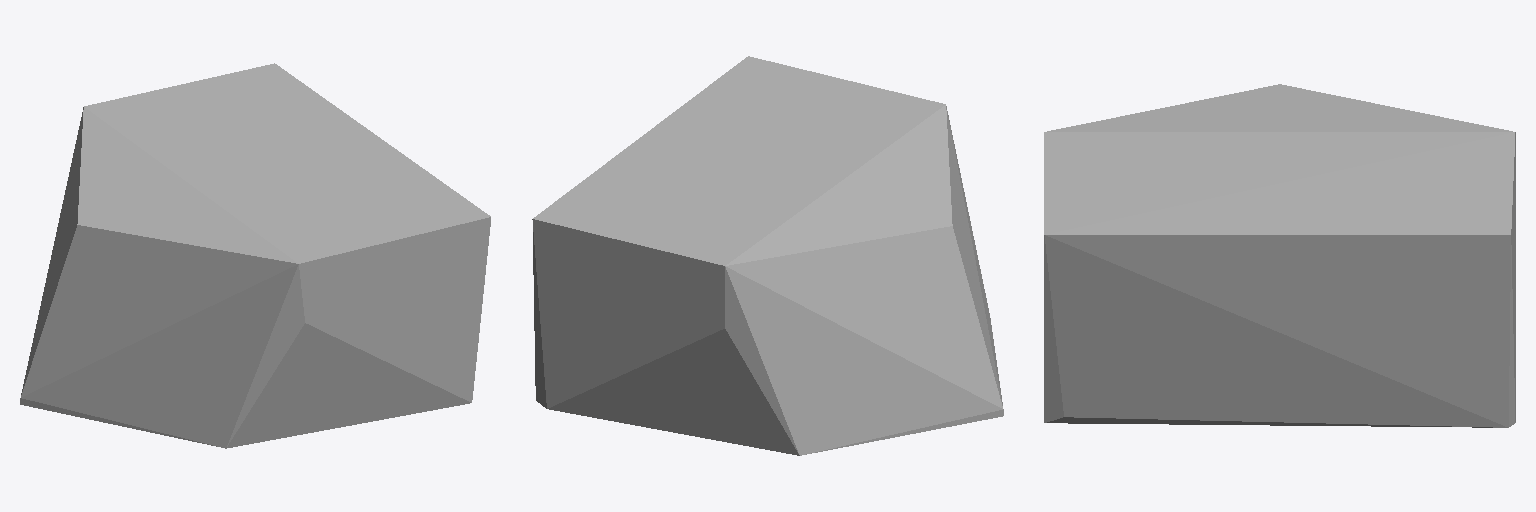
The robot description file, URDF, robot "root":
<?xml version='1.0' encoding='utf-8'?>
<robot name="root">
  <link name="link_001">
    <visual>
      <origin xyz="0 0 0" rpy="0 0 0" />
      <geometry>
        <mesh filename="67937a8f8034ae12c53c286a205afd76150e5d95f49a4c2e2dd1bf73be41a886_scale_485.stl" scale="1.0000E+00 1.0000E+00 1.0000E+00" />
      </geometry>
      <material name="">
        <color rgba="7.50E-01 7.50E-01 7.50E-01 1" />
      </material>
    </visual>
    <collision>
      <origin xyz="0 0 0" rpy="0 0 0" />
      <geometry>
        <mesh filename="67937a8f8034ae12c53c286a205afd76150e5d95f49a4c2e2dd1bf73be41a886_scale_485.stl" scale="1.0000E+00 1.0000E+00 1.0000E+00" />
      </geometry>
    </collision>
  </link>
</robot>

--- What the picture shows (computed from the rendered views, not written in the file) ---
The picture shows the robot from 3 angles, left to right: view 1: azimuth 30°, elevation 25°; view 2: azimuth 150°, elevation 25°; view 3: azimuth 270°, elevation 25°; orthographic projection.
Model root with 1 links and 0 joints (none), rooted at link_001, posed all joints at 0.
Links seen in each view (by area): view 1: link_001; view 2: link_001; view 3: link_001.
Link boxes in pixels (x1,y1,x2,y2): link_001: (20, 63, 490, 448); link_001: (532, 56, 1003, 455); link_001: (1044, 84, 1515, 427).
Size in the robot's own frame: 0.0961 by 0.0996 by 0.0463 metres.
Meshes: 1 distinct files referenced, 1 mesh visuals loaded (1 binary STL).
